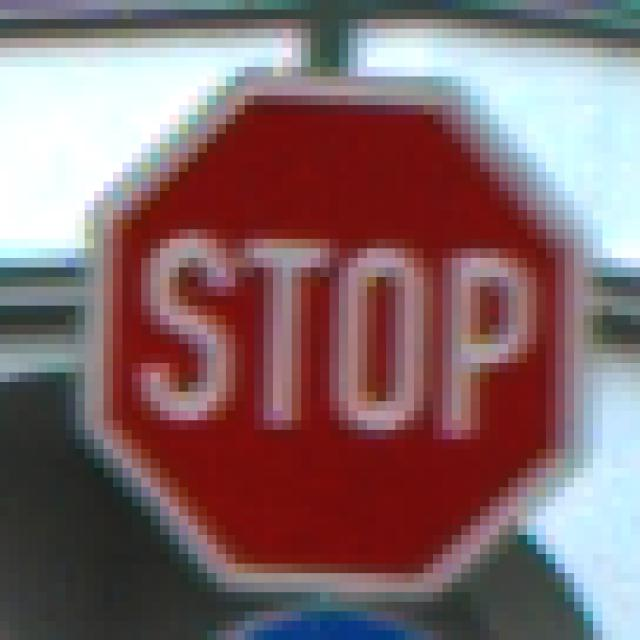STOP: (67, 58, 584, 584)
